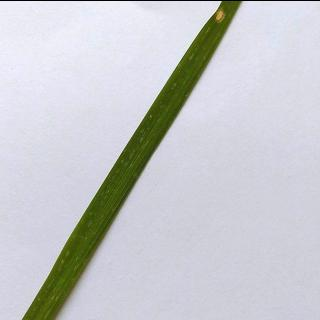Blast: (190, 2, 236, 46)
